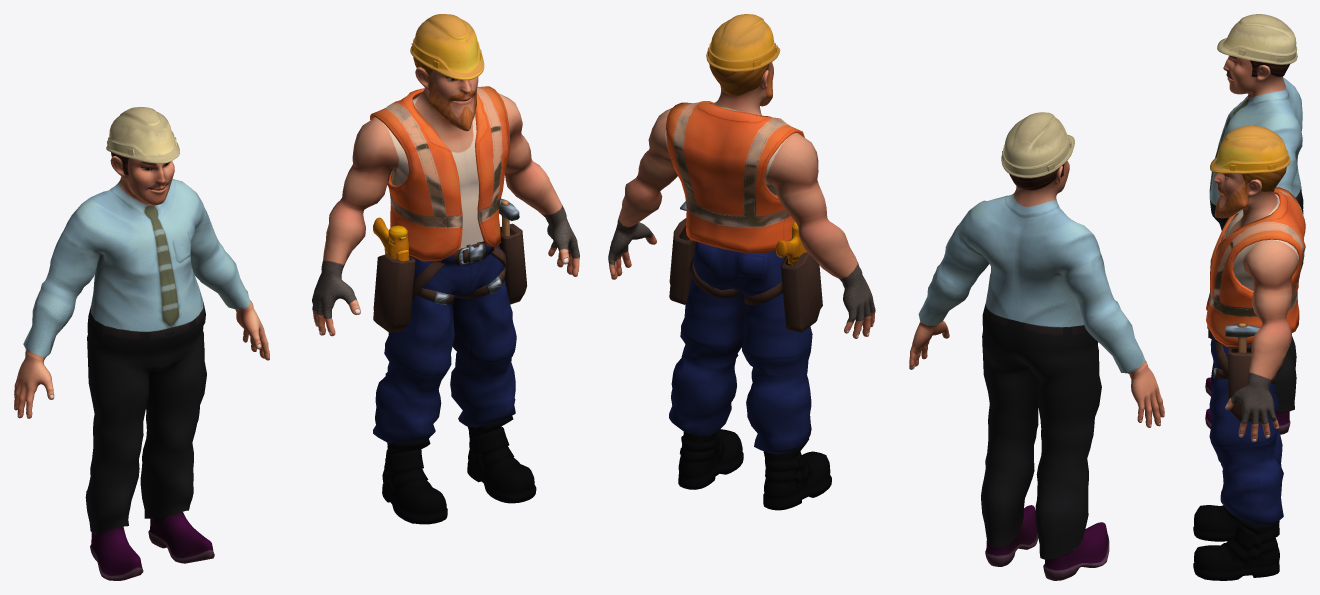
The model's file is wild_3d.glb.
3 renders of one model, left to right at view 1: azimuth 30°, elevation 25°; view 2: azimuth 150°, elevation 25°; view 3: azimuth 270°, elevation 25°, orthographic. The views are drawn at different scales.
Parts seen in each view (by area): view 1: Body (×2), Accessories (×2), Pants, Drill; view 2: Body (×2), Pants, Accessories (×2); view 3: Body (×2), Accessories (×2), Pants, Hammer.
Part boxes in pixels (<box>): Body (×2): <box>14,57,579,580</box>; Accessories (×2): <box>106,14,527,332</box>; Pants: <box>373,244,536,524</box>; Drill: <box>373,217,409,261</box>; Body (×2): <box>608,62,1164,580</box>; Pants: <box>669,241,831,510</box>; Accessories (×2): <box>666,14,1074,332</box>; Body (×2): <box>1205,55,1303,442</box>; Accessories (×2): <box>1206,14,1305,421</box>; Pants: <box>1193,334,1283,580</box>; Hammer: <box>1225,323,1260,352</box>.
Size of the model in its own units: 2.2 by 1.8 by 0.4307.
Materials: 7 (7 with a texture image).
